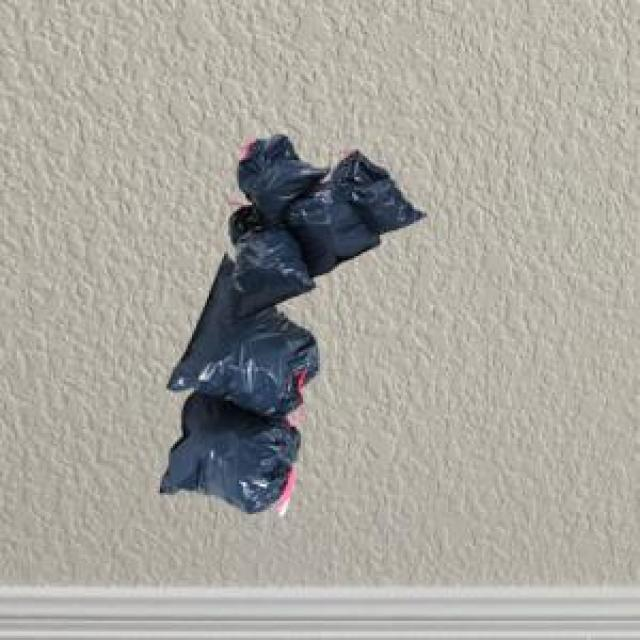waste: (160, 135, 424, 512)
